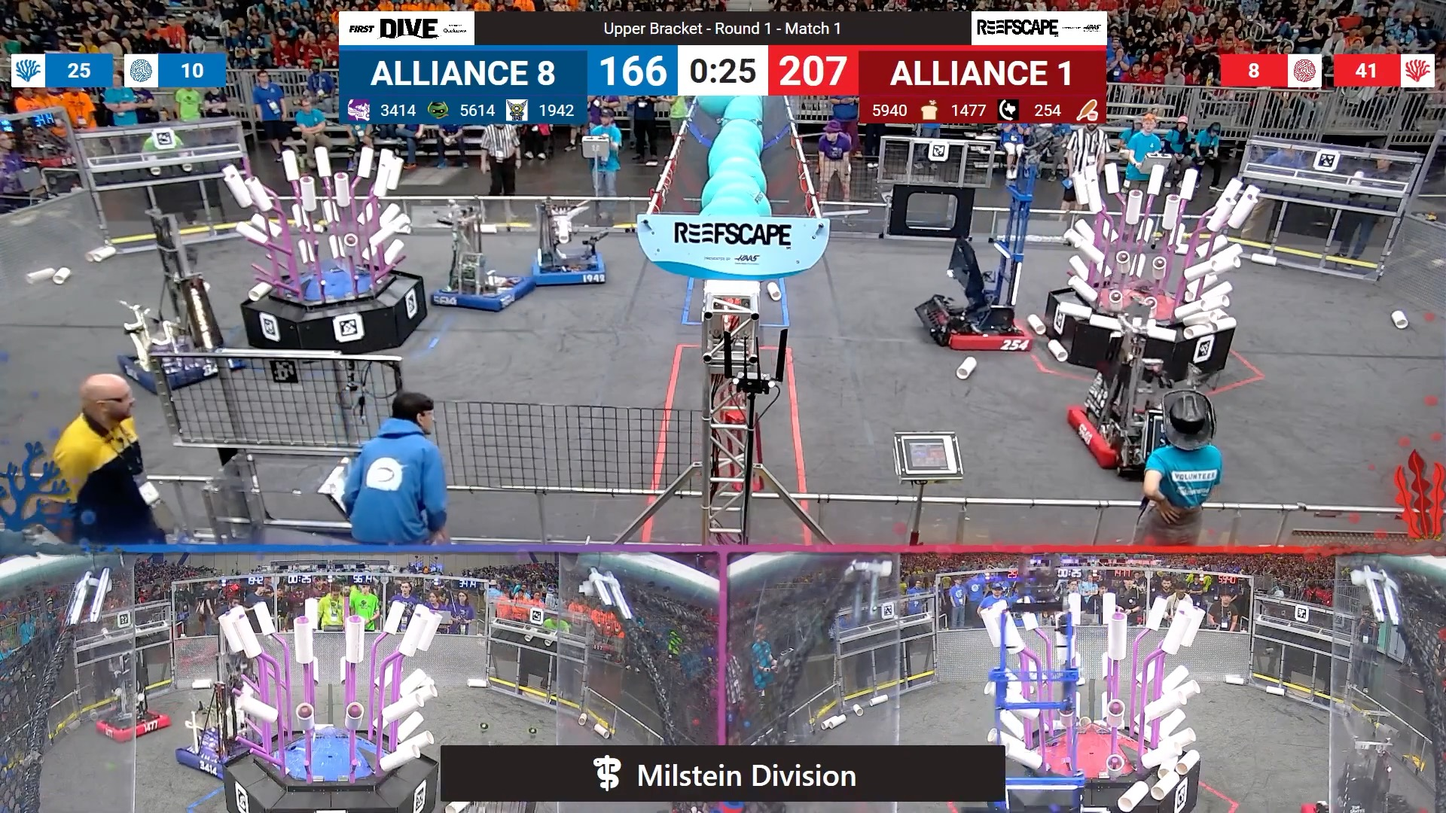bumpers: (1060, 402, 1203, 473), (112, 339, 249, 393), (922, 302, 1045, 360), (431, 272, 537, 317), (526, 246, 616, 290), (88, 707, 175, 744)
